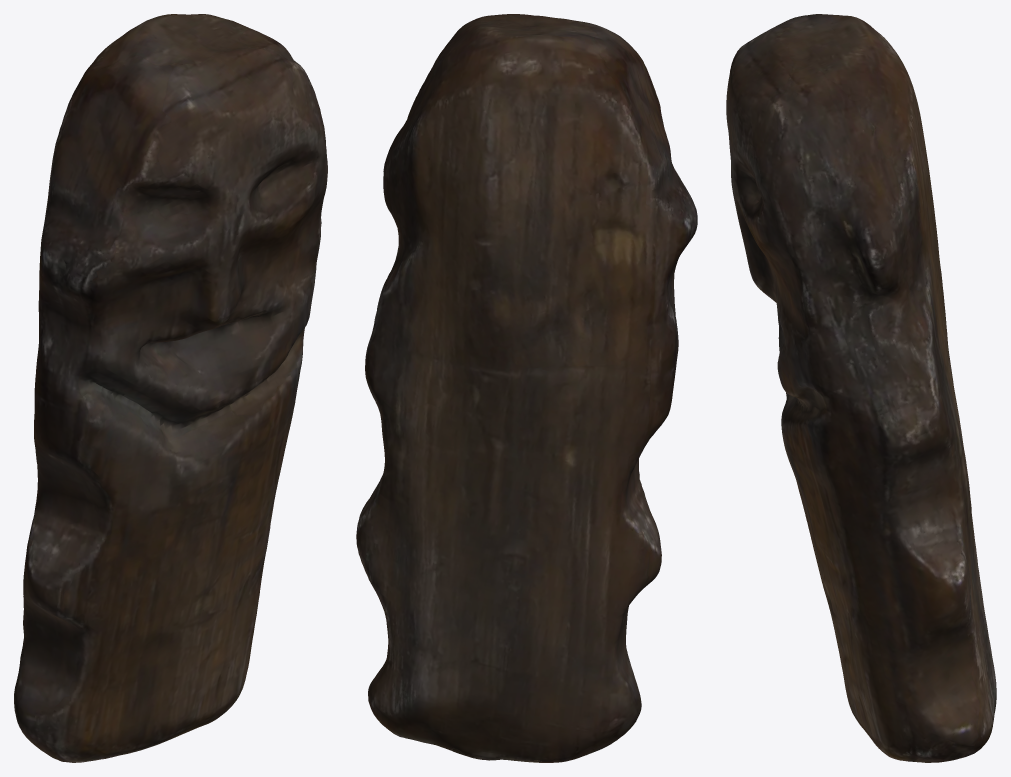
Rendered from preview.glb.
The picture shows the model from 3 angles, left to right: view 1: azimuth 30°, elevation 25°; view 2: azimuth 150°, elevation 25°; view 3: azimuth 270°, elevation 25°; orthographic projection. The views are drawn at different scales.
Visible parts, largest first — view 1: Object_2; view 2: Object_2; view 3: Object_2.
Boxes of the visible parts, x1,y1,x2,y2 form: Object_2: (14, 14, 327, 762); Object_2: (356, 14, 697, 762); Object_2: (726, 14, 996, 762).
Bounding box in the file's own units: 51.71 × 126 × 43.97.
1 material, 1 textured.
